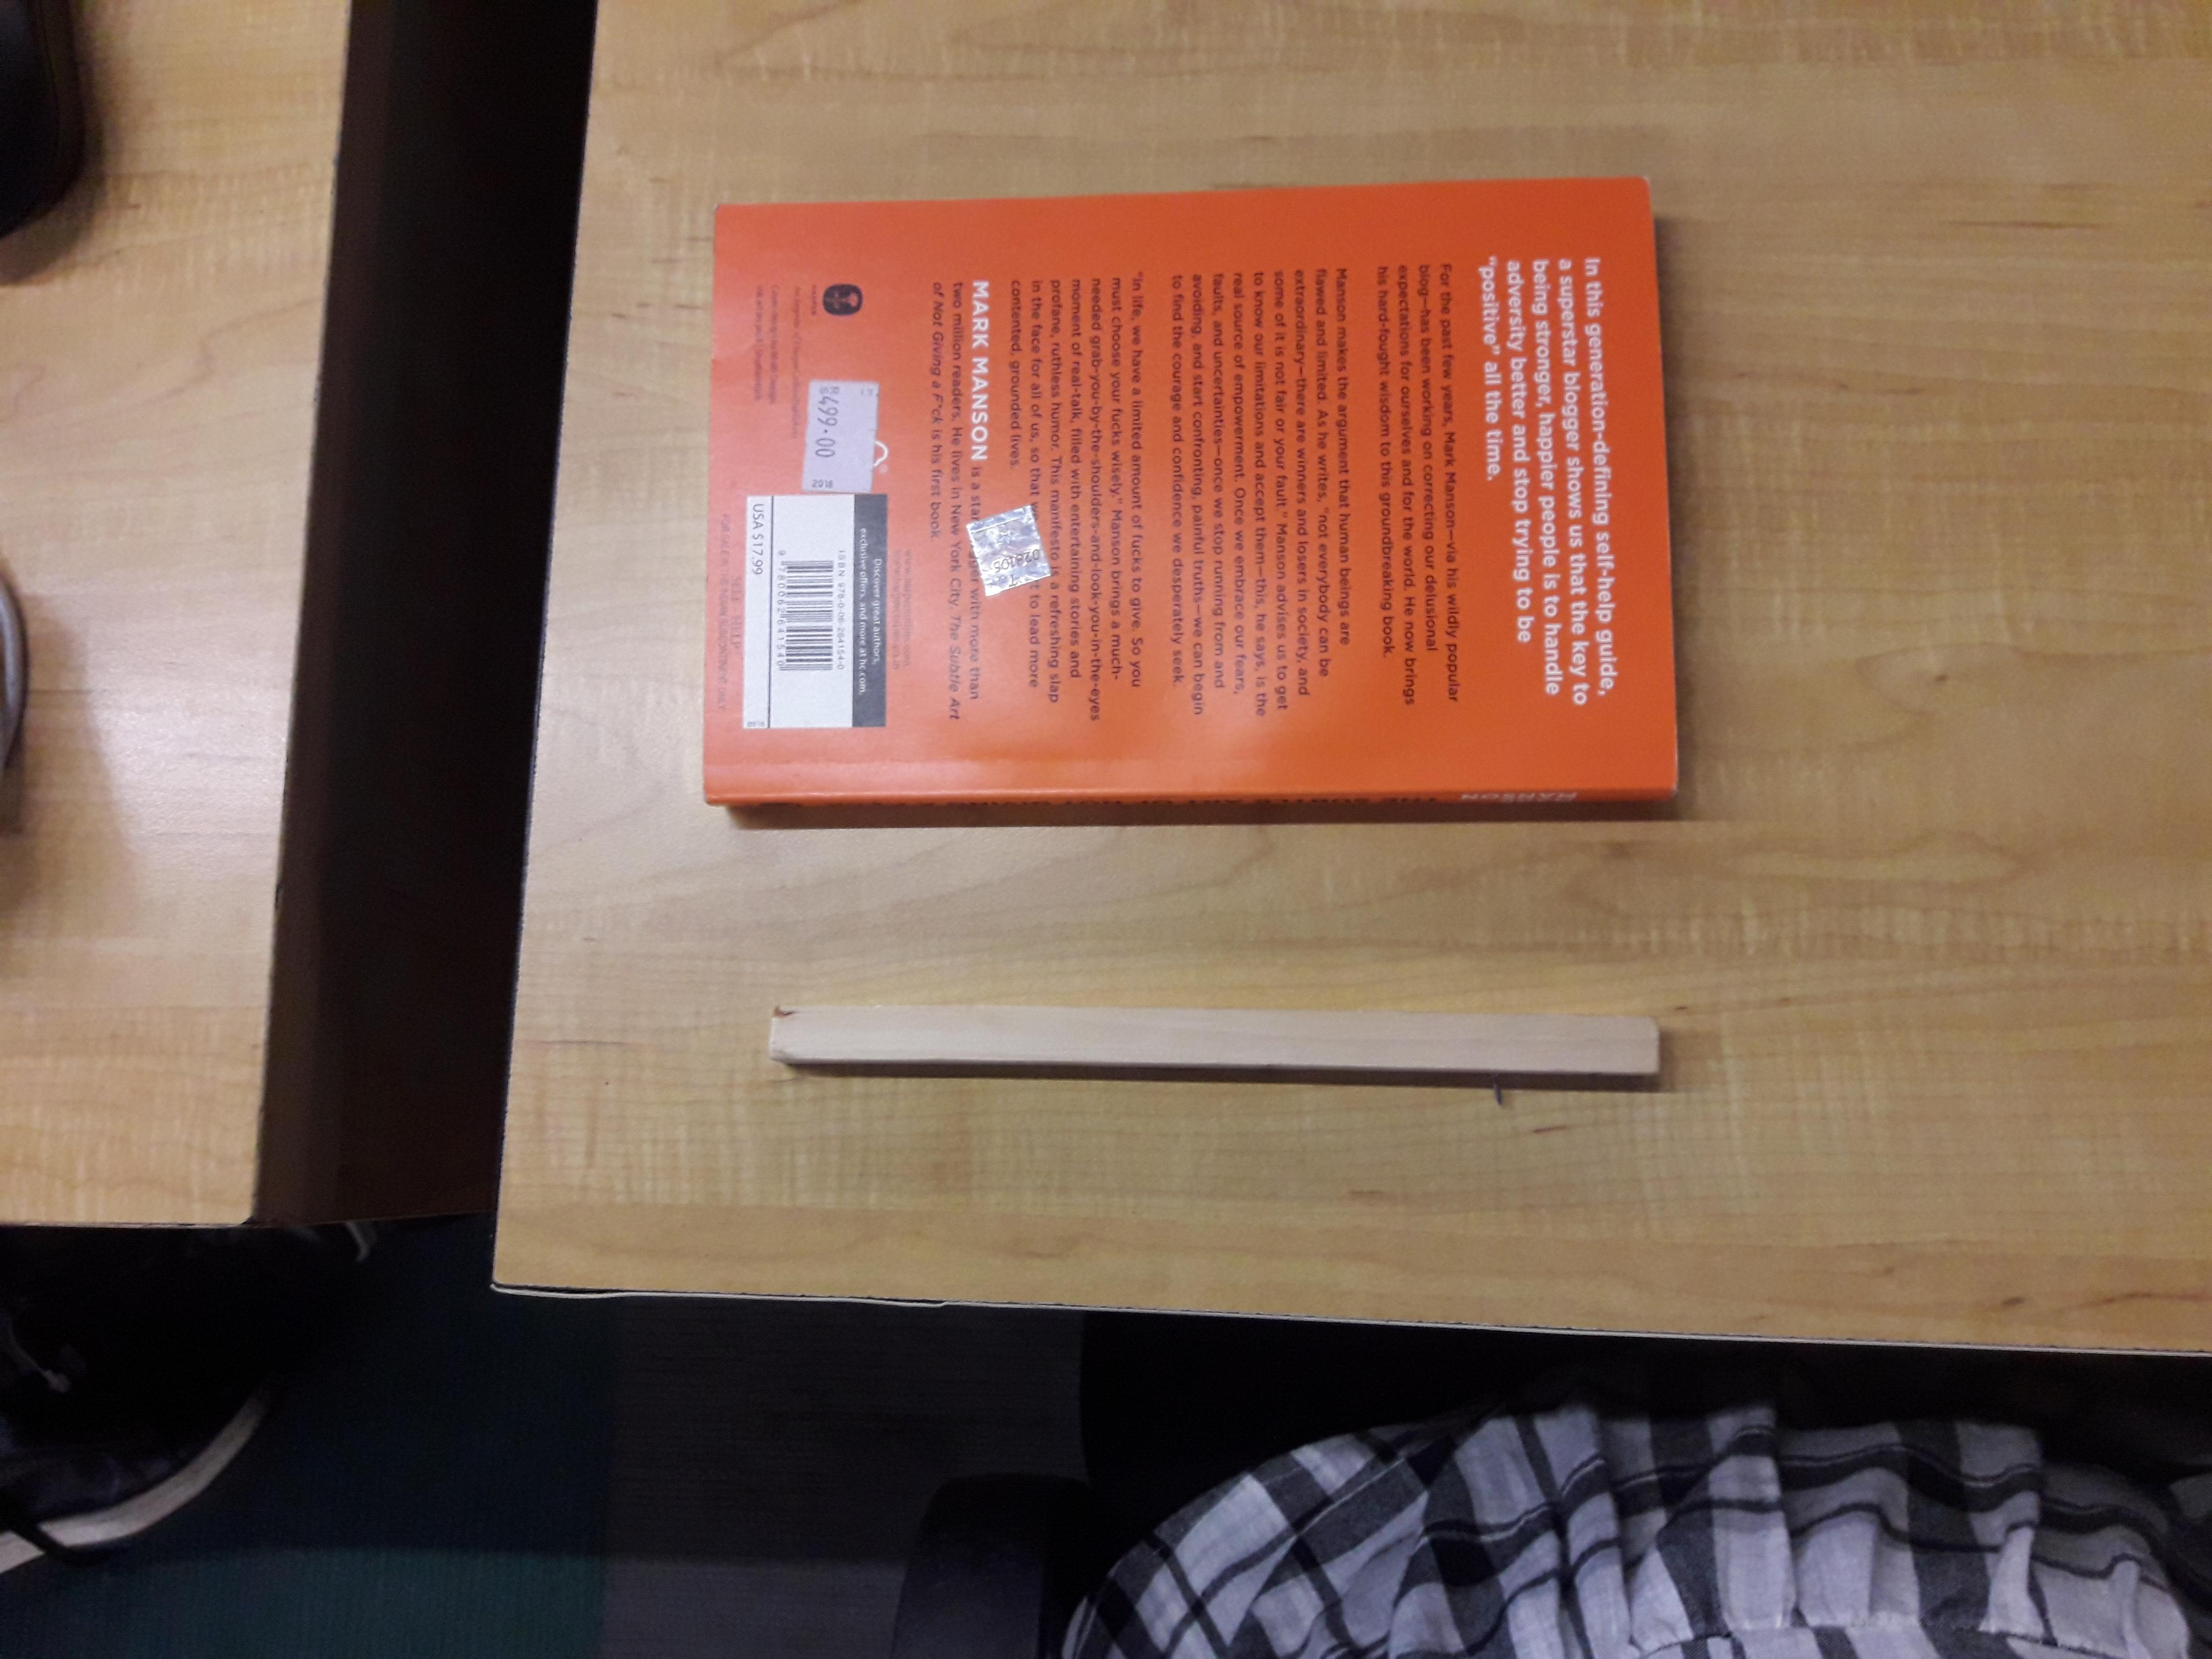object: (711, 178, 1683, 795)
reference: (768, 1004, 1665, 1073)
